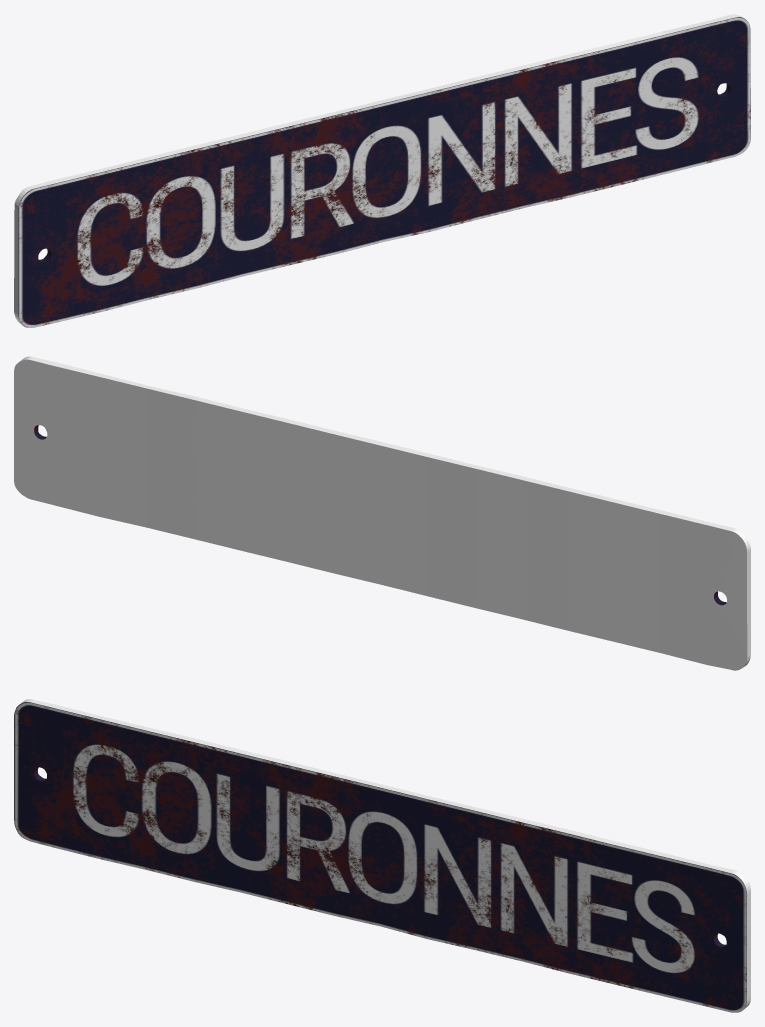
Rendered from Couronnes.gltf.
3 renders of one model, top to bottom at view 1: azimuth 30°, elevation 25°; view 2: azimuth 150°, elevation 25°; view 3: azimuth 330°, elevation 25°, orthographic.
Parts seen in each view (by area): view 1: Couronnes; view 2: Couronnes; view 3: Couronnes.
Part boxes in pixels (box(x1,y1,x2,y2)): Couronnes: box(14, 14, 750, 327); Couronnes: box(14, 356, 750, 670); Couronnes: box(14, 699, 750, 1012).
Bounding box in the file's own units: 17.56 × 3.21 × 0.1782.
2 materials, 1 textured.
